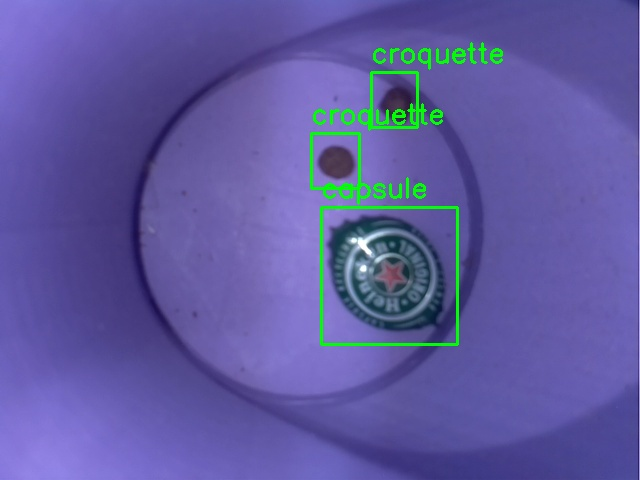capsule: (321, 207, 457, 344)
croquette: (311, 133, 359, 188), (371, 72, 417, 127)
